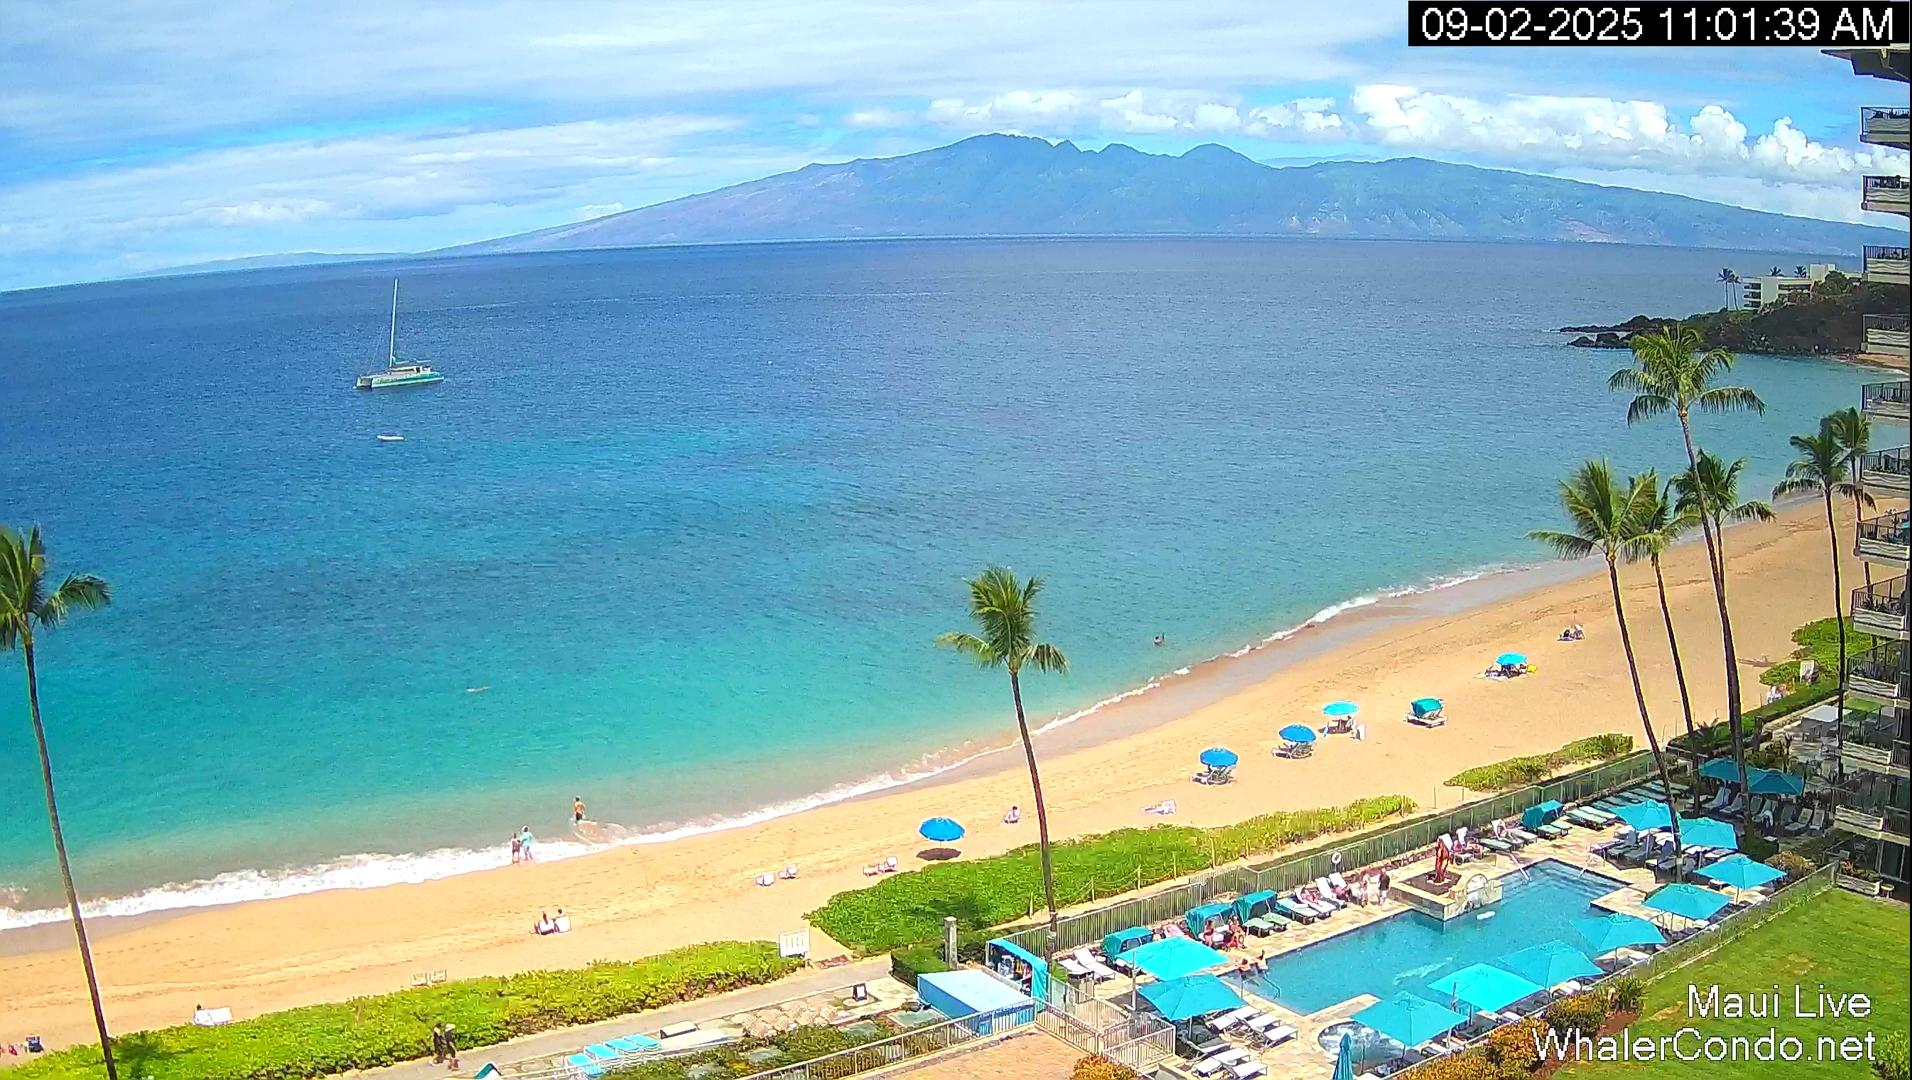boat: (355, 278, 444, 390), (376, 434, 406, 442)
person: (444, 1024, 460, 1072), (431, 1022, 446, 1066), (1254, 951, 1273, 978), (1377, 868, 1390, 907), (520, 826, 534, 862), (1237, 957, 1254, 981), (1231, 917, 1244, 948), (1203, 920, 1216, 949), (573, 796, 586, 824), (540, 911, 555, 935), (1303, 885, 1320, 905), (511, 832, 521, 865), (1334, 880, 1352, 898), (1003, 805, 1020, 824), (469, 683, 493, 694), (1452, 839, 1465, 857), (1153, 632, 1169, 646), (1334, 716, 1352, 725), (24, 1034, 34, 1045), (197, 1003, 202, 1013)
